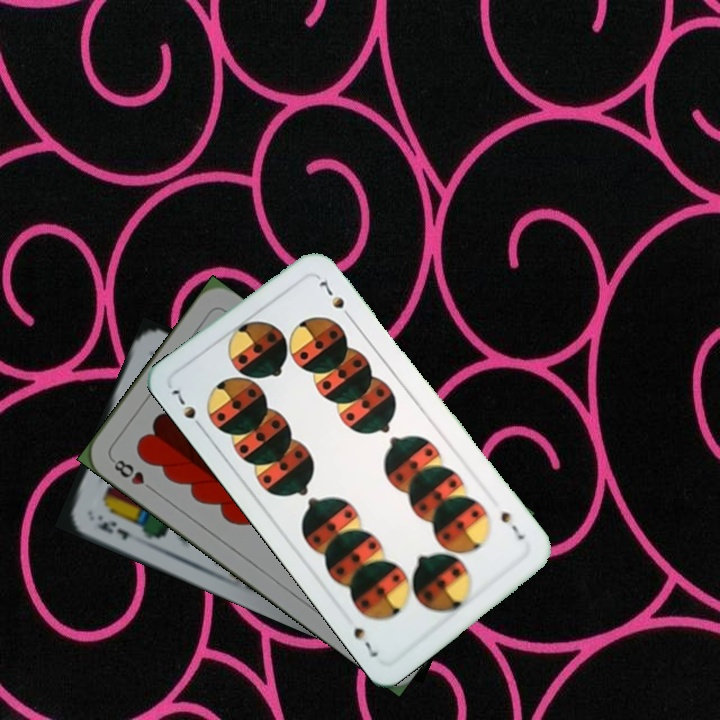EK: (93, 511, 132, 542)
H8: (107, 454, 158, 495)
S7: (166, 385, 207, 434), (496, 507, 527, 543)
